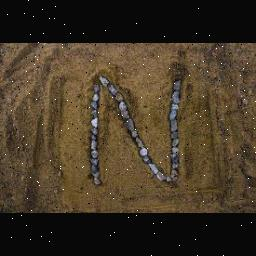n: (82, 64, 190, 190)
